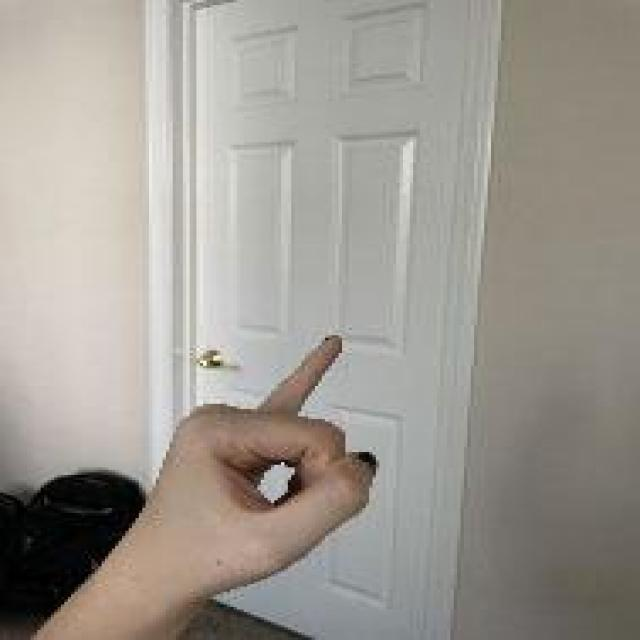I: (144, 331, 384, 593)
